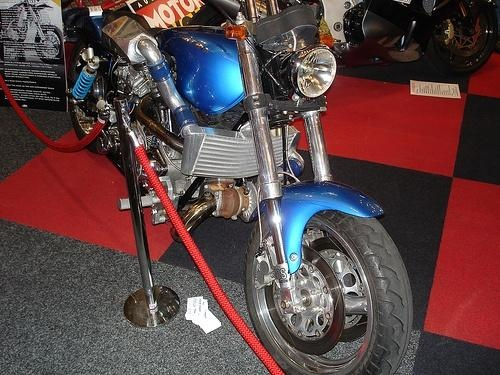motorbike: (61, 11, 415, 373)
